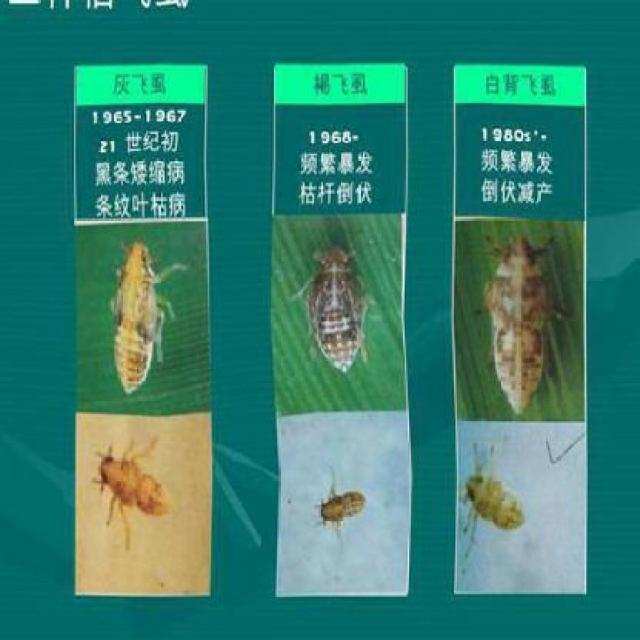brown-planthopper: (488, 238, 552, 412), (302, 238, 372, 378), (112, 240, 166, 392)
